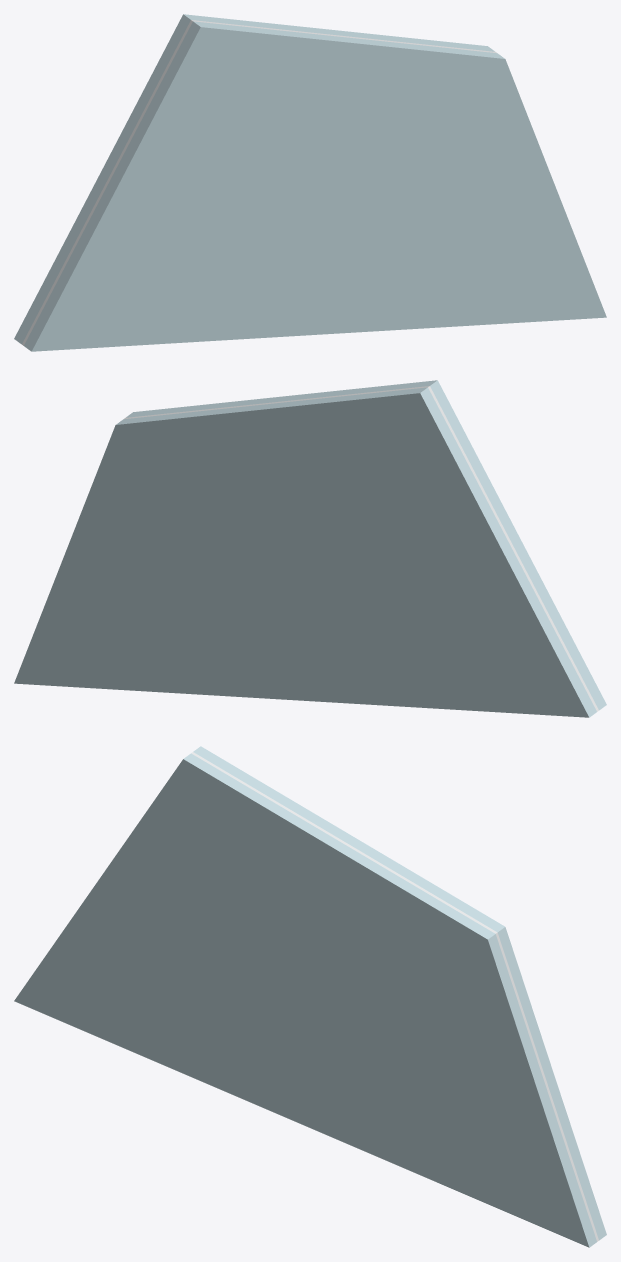
Rendered from SM_Int_Shard_C.fbx.
3 views of the same model, one above another, from view 1: azimuth 30°, elevation 25°; view 2: azimuth 150°, elevation 25°; view 3: azimuth 330°, elevation 25° (orthographic).
Visible parts, largest first — view 1: SM_Int_Shard_C; view 2: SM_Int_Shard_C; view 3: SM_Int_Shard_C.
Part boxes in pixels (x1,y1,x2,y2): SM_Int_Shard_C: (14,14,606,351); SM_Int_Shard_C: (14,380,606,717); SM_Int_Shard_C: (14,746,606,1247).
Bounding box in the file's own units: 0.009 × 0.17 × 0.11.
